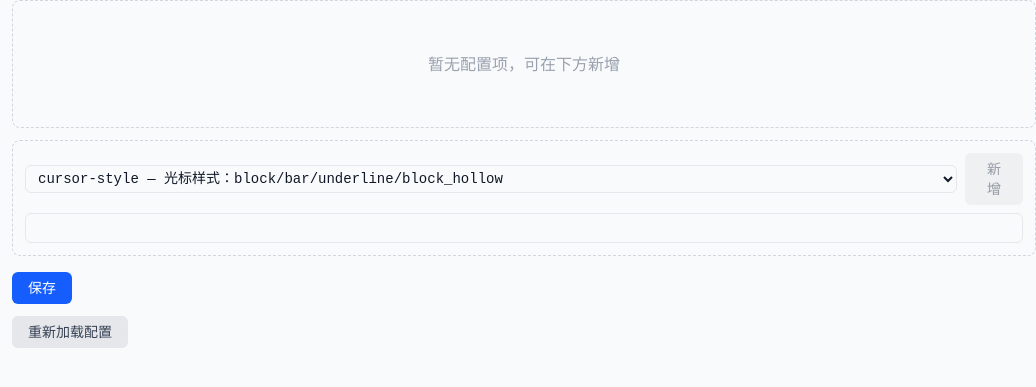
Test: GhostyConfigForm › renders enum value control with only enum options for new key
The width and height of the screenshot is (1036, 387).
Select "cursor-style — 光标样式：block/bar/underline/block_hollow" in the dropdown named "从支持的 key 中选择" at (491, 179), box [25,165,957,193]
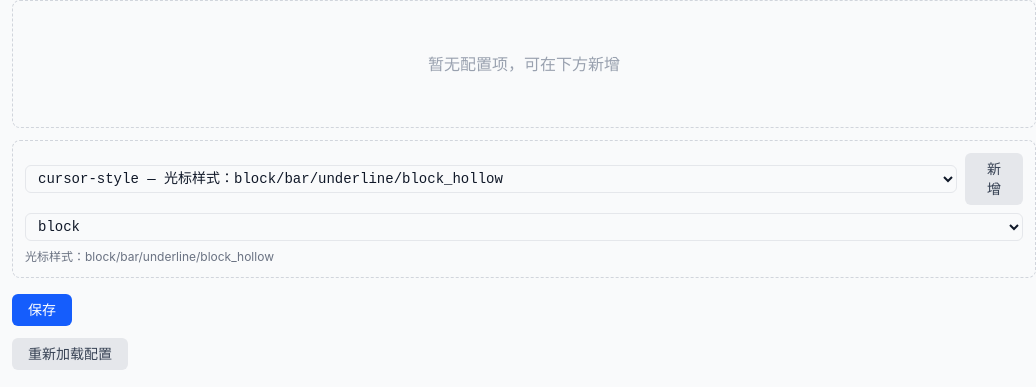
Check: the 2nd dropdown is shown, box [25,213,1023,241]
